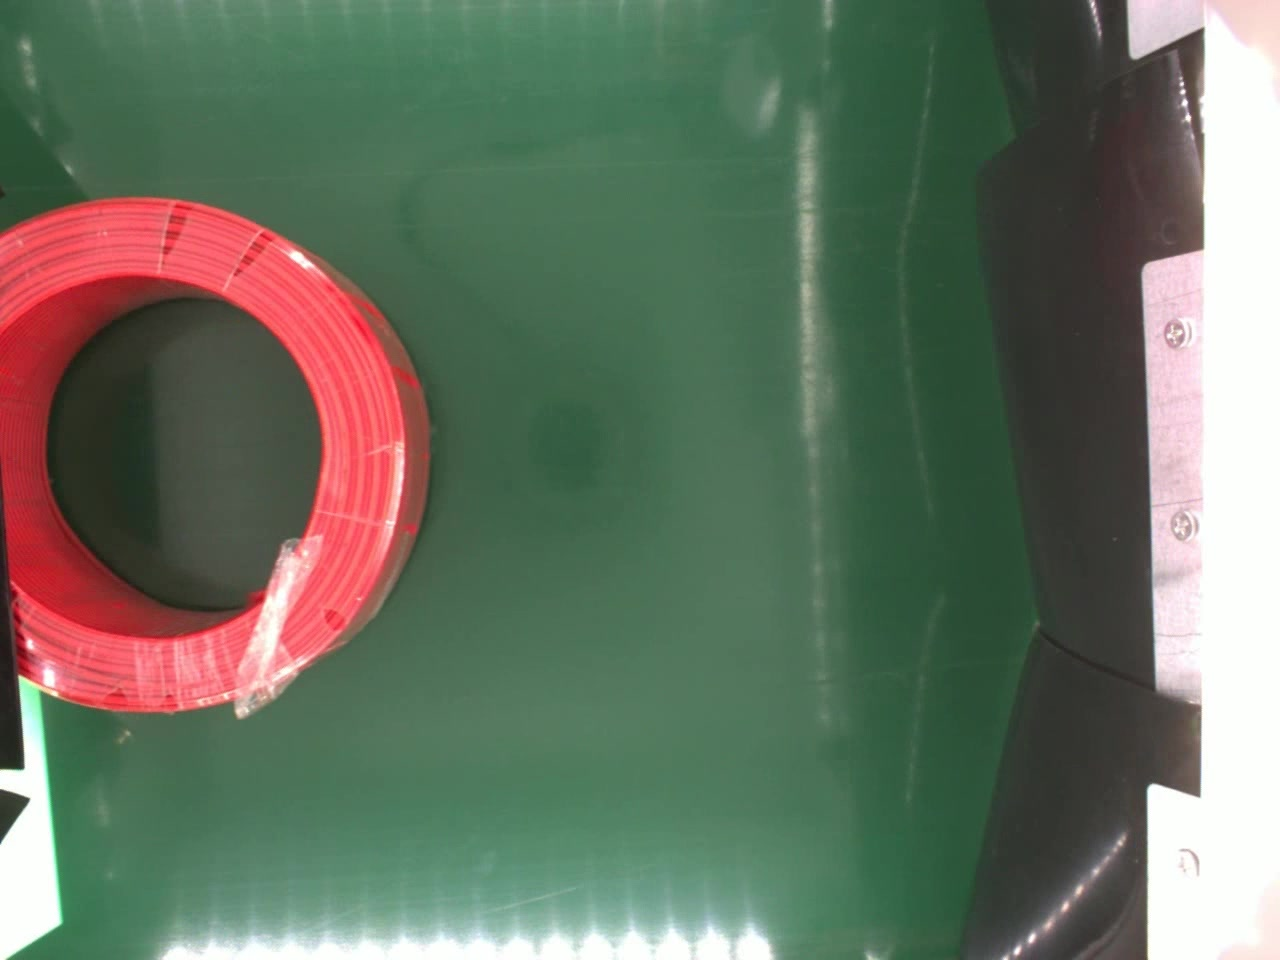red: (0, 196, 426, 720)
